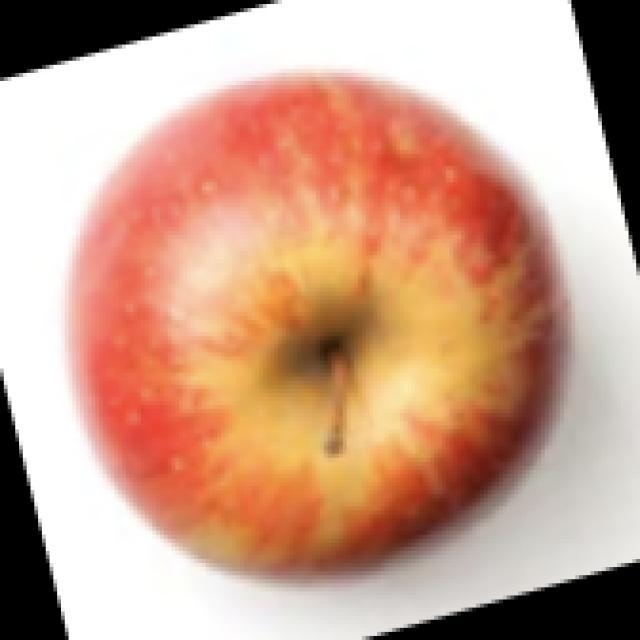Fresh Apple: (33, 69, 572, 574)
